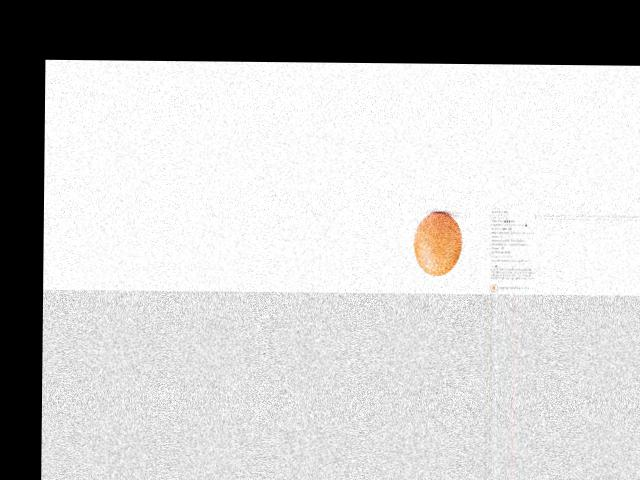egg: (413, 212, 462, 275)
